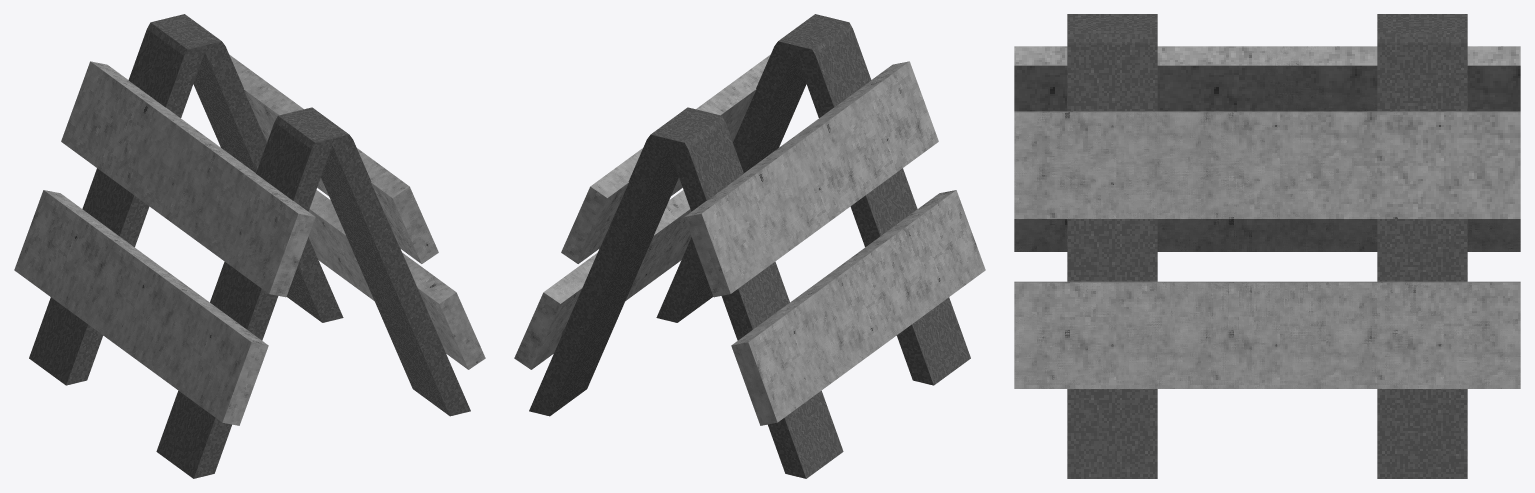
Rendered from barrier.fbx.
3 renders of one model, left to right at view 1: azimuth 30°, elevation 25°; view 2: azimuth 150°, elevation 25°; view 3: azimuth 270°, elevation 25°, orthographic. The views are drawn at different scales.
Parts seen in each view (by area): view 1: Cube.015; view 2: Cube.015; view 3: Cube.015.
Boxes of the visible parts, x1,y1,x2,y2 form: Cube.015: (14, 14, 485, 478); Cube.015: (514, 14, 985, 478); Cube.015: (1014, 14, 1520, 478).
Bounding box in the file's own units: 82.66 × 87.22 × 107.
